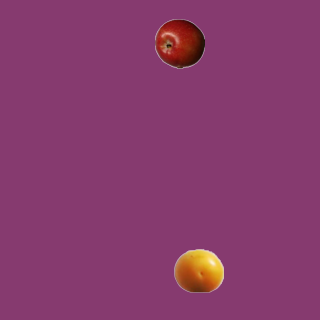Apple Braeburn: (154, 18, 204, 68)
Cherry Wax Yellow: (173, 245, 223, 295)
